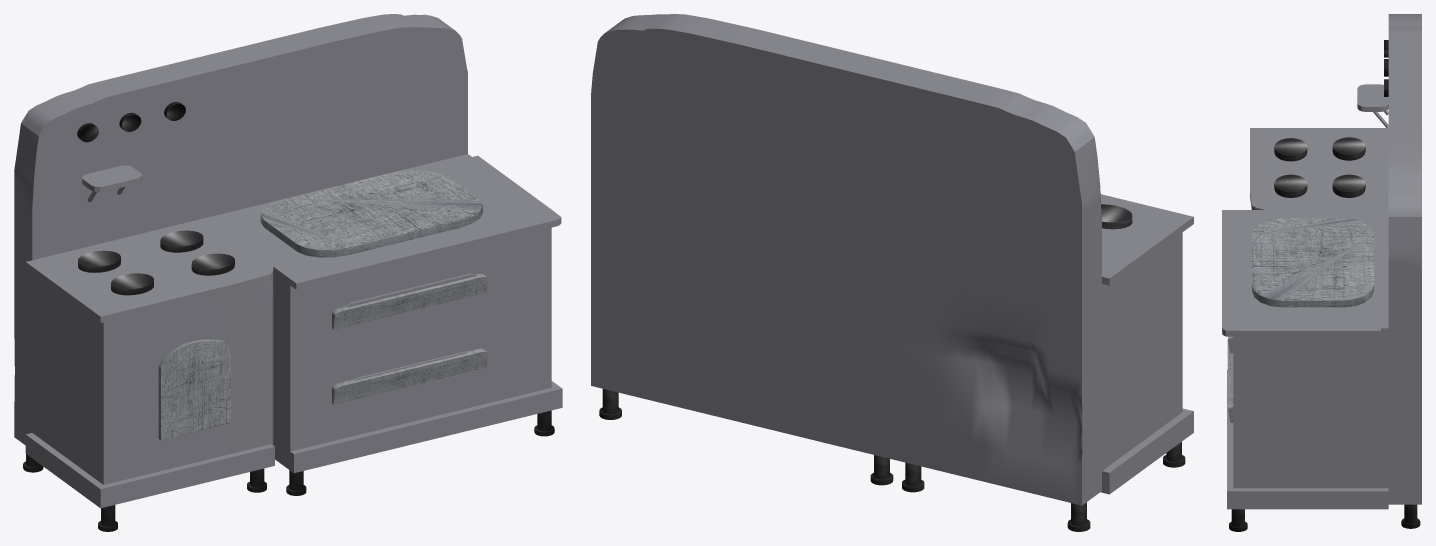
The model's file is estufa.obj.
The picture shows the model from 3 angles, left to right: view 1: azimuth 30°, elevation 25°; view 2: azimuth 150°, elevation 25°; view 3: azimuth 270°, elevation 25°; orthographic projection. The views are drawn at different scales.
Parts seen in each view (by area): view 1: group14_pasted__pCylinder3; view 2: group14_pasted__pCylinder3; view 3: group14_pasted__pCylinder3.
Boxes of the visible parts, x1,y1,x2,y2 form: group14_pasted__pCylinder3: [14, 14, 562, 531]; group14_pasted__pCylinder3: [591, 14, 1193, 531]; group14_pasted__pCylinder3: [1222, 14, 1421, 531].
Size of the model in its own units: 14.33 by 11.05 by 5.95.
23 materials, 23 textured.
